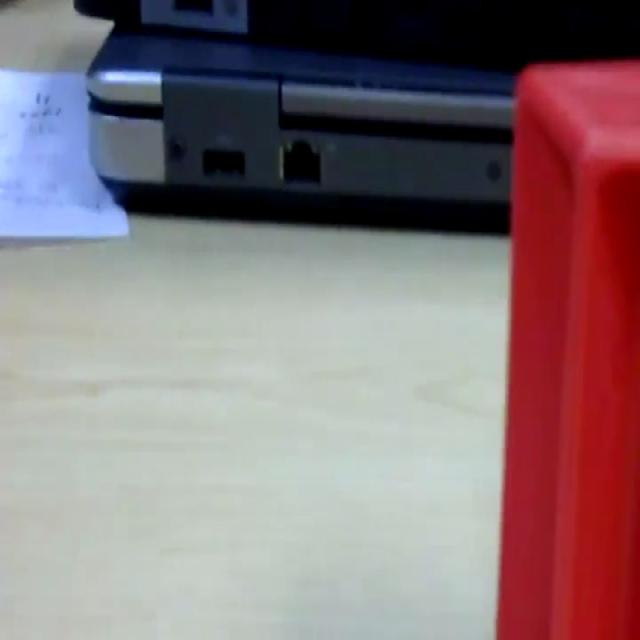red_block: (494, 57, 638, 636)
